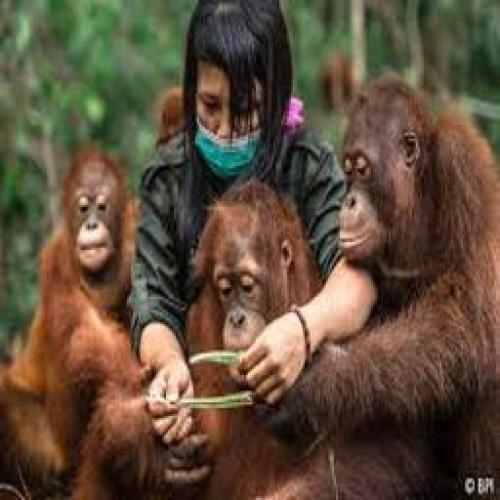orangutan-endangered: (75, 179, 429, 488), (256, 72, 500, 490), (7, 146, 143, 474)
